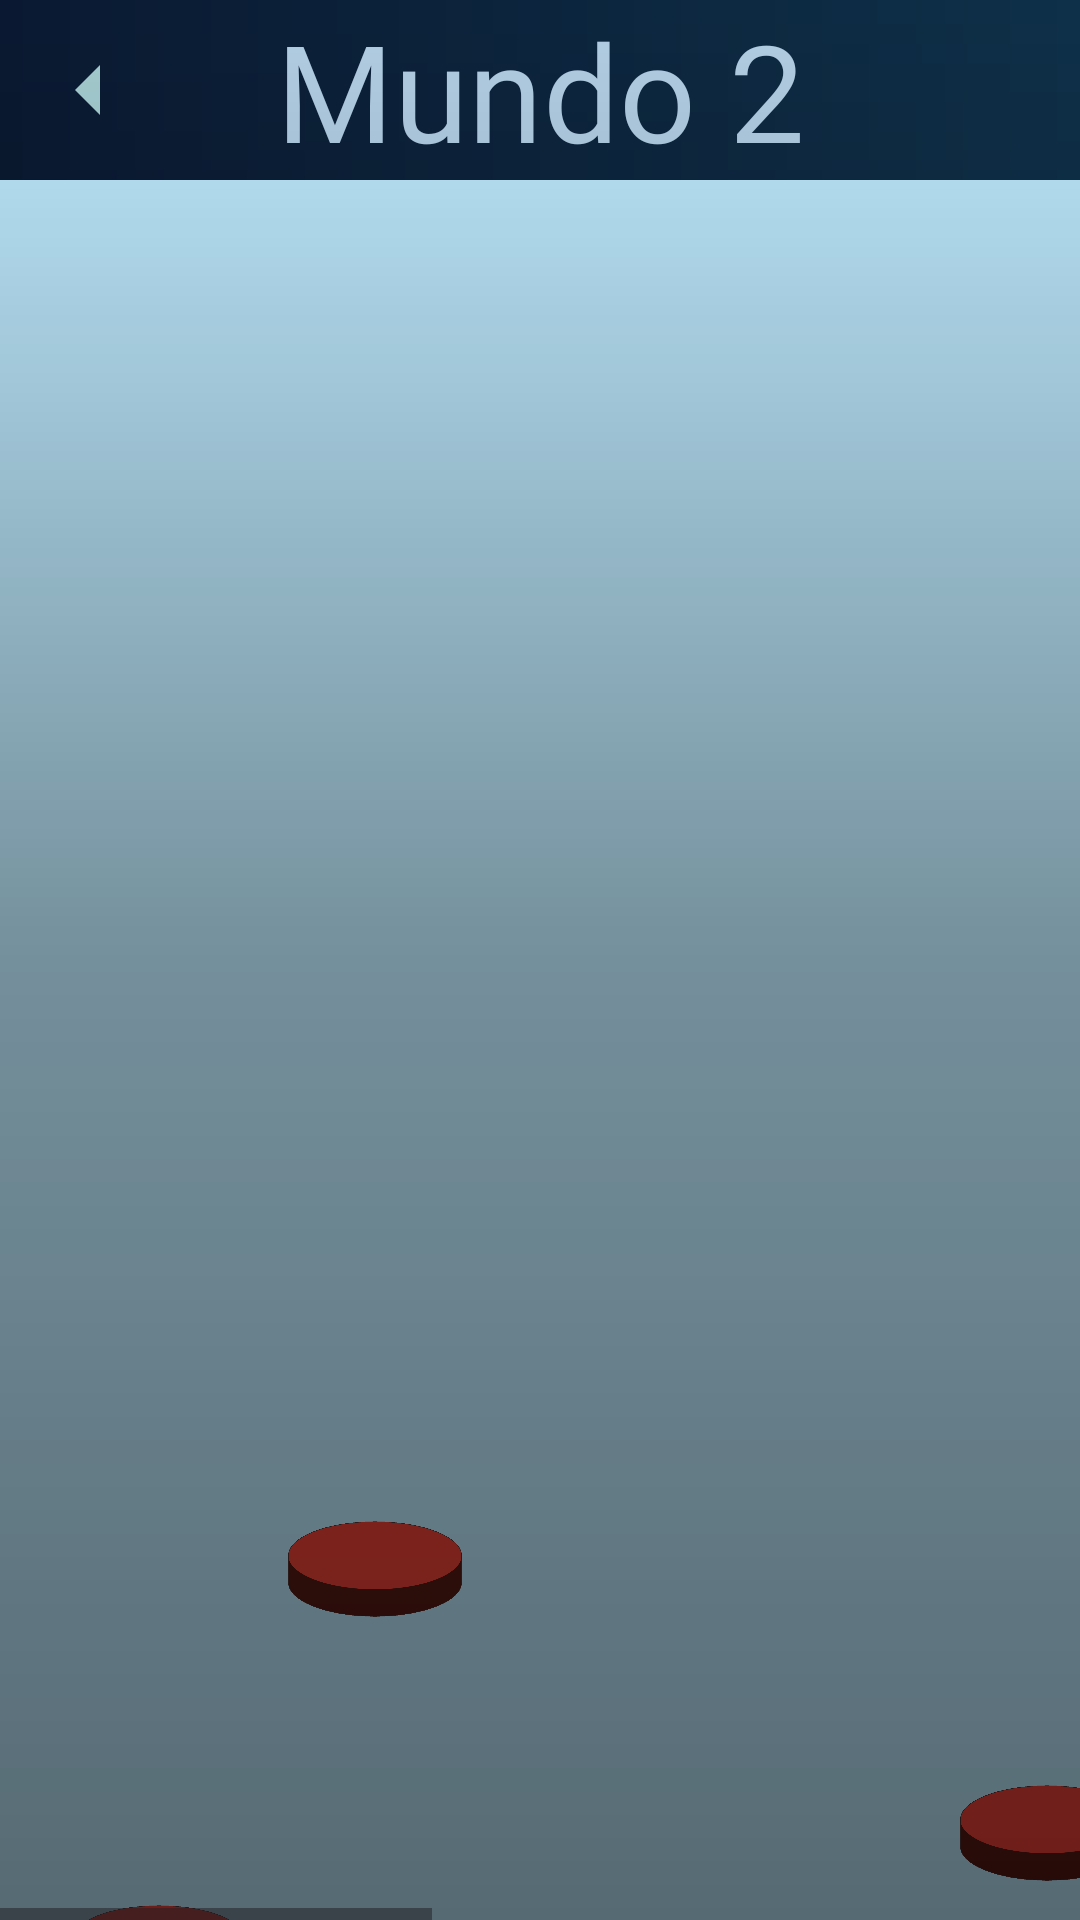

Screen size 1080*1920. Icon name, then its box in pixels as (x1=x1, y1=y1, x2=x2, y2=y2):
Botão de Voltar: (x1=75, y1=65, x2=100, y2=115)
